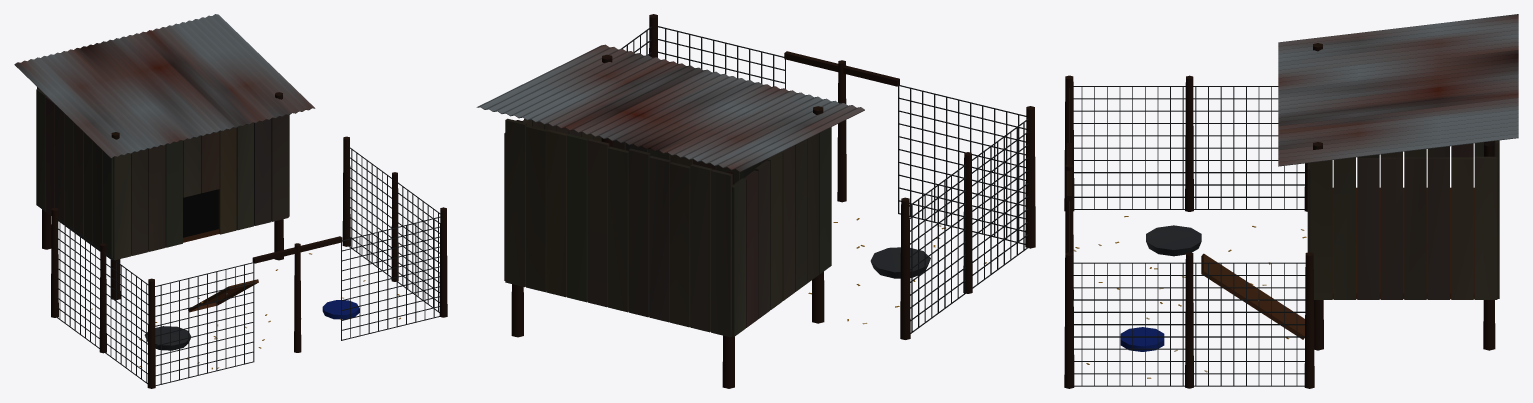
Rendered from fm_coop.glb.
The picture shows the model from 3 angles, left to right: view 1: azimuth 30°, elevation 25°; view 2: azimuth 150°, elevation 25°; view 3: azimuth 270°, elevation 25°; orthographic projection. The views are drawn at different scales.
Visible parts, largest first — view 1: fm_coop; view 2: fm_coop; view 3: fm_coop.
Boxes of the visible parts, bbox=[...] form: fm_coop: bbox=[14, 14, 447, 388]; fm_coop: bbox=[476, 14, 1035, 388]; fm_coop: bbox=[1064, 14, 1518, 388].
Size of the model in its own units: 4.11 by 2.72 by 4.35.
